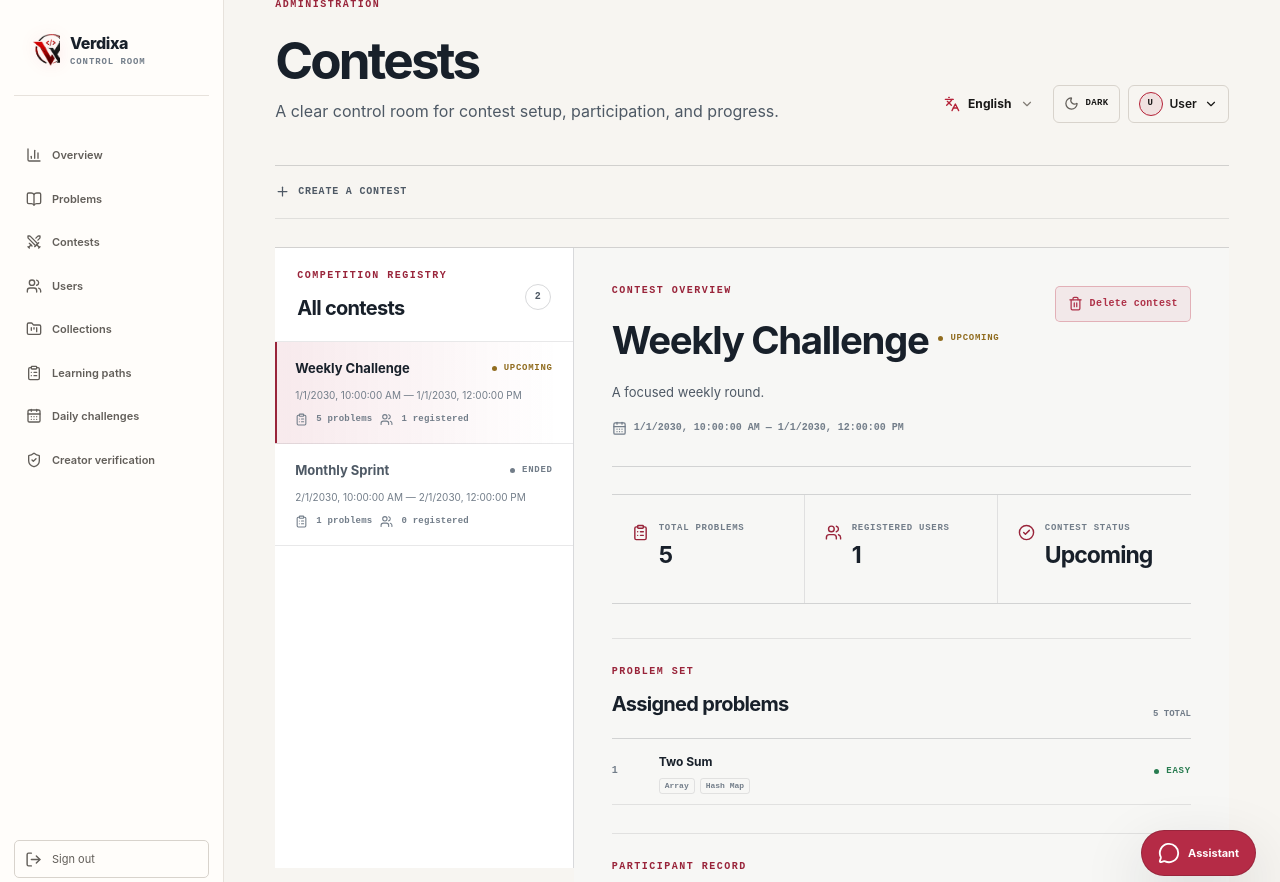
it: renders problems and registered-user progress, then opens confirmation
Step 1. Click the button "Delete contest" → (1123, 304), box [1055, 286, 1191, 322]
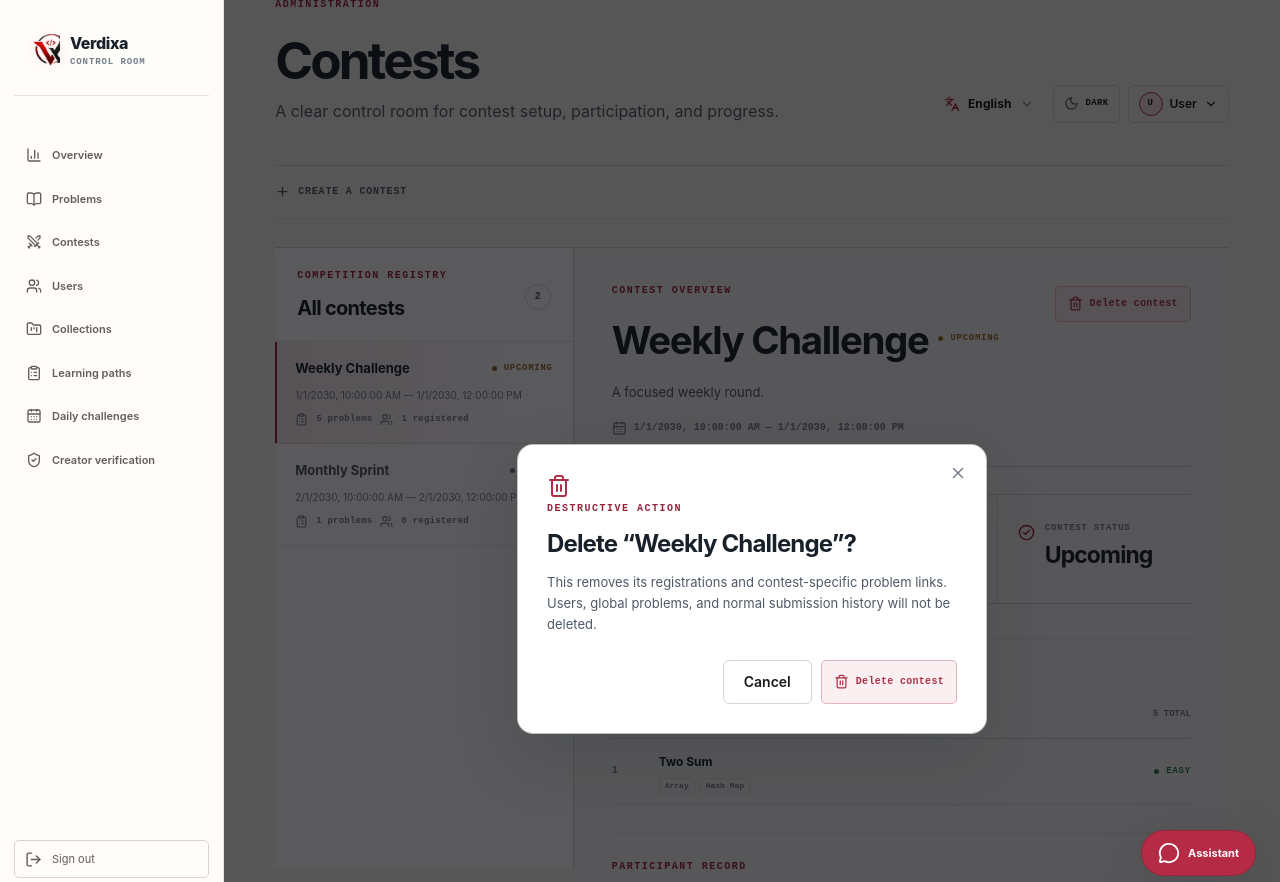
Now the dialog shows "Users, global problems, and normal submission history will not be deleted.", box [547, 574, 950, 632]
